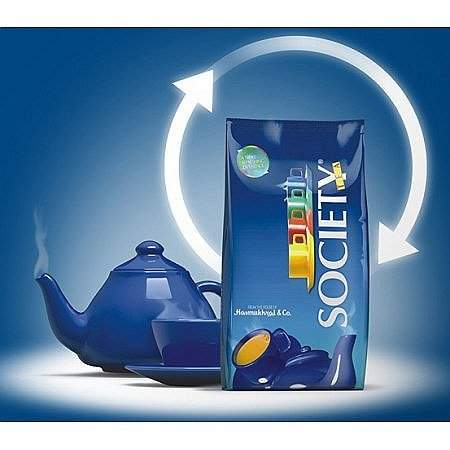society: (220, 119, 375, 392)
